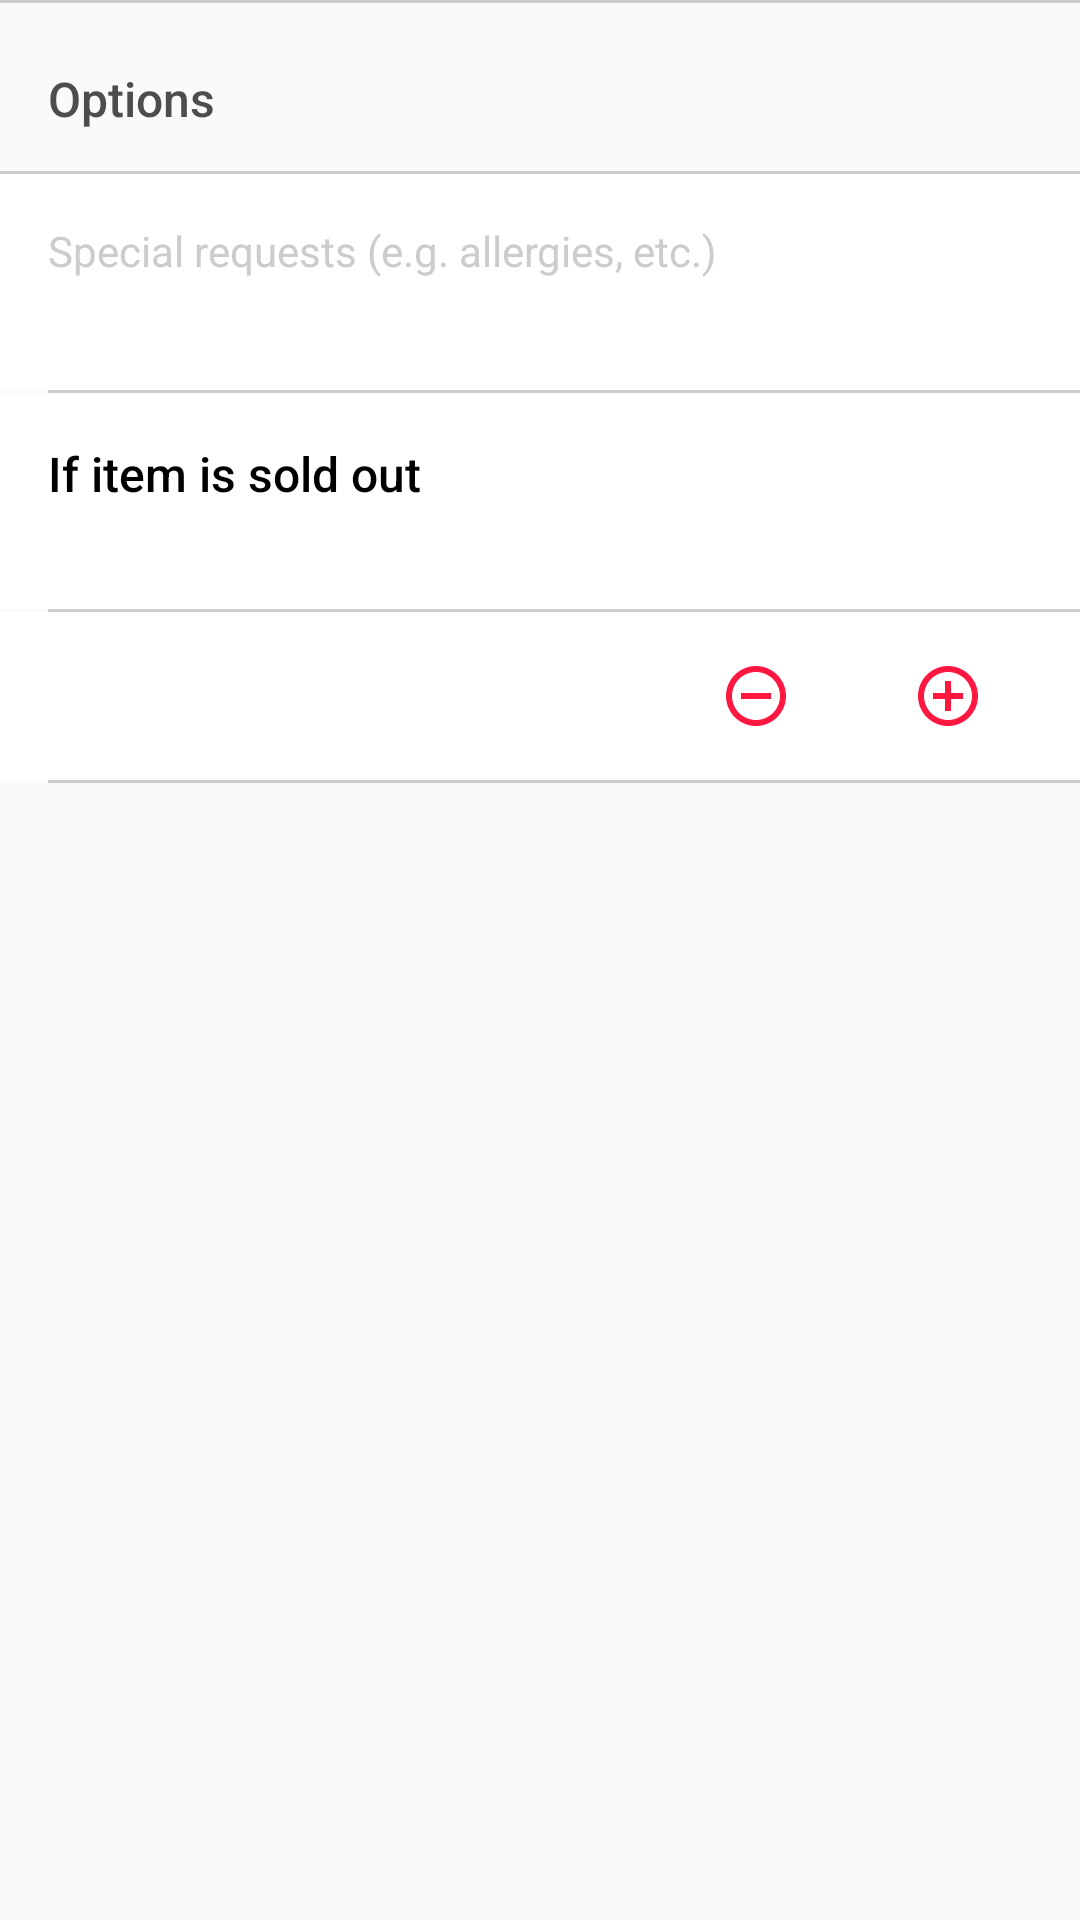

Point at icon controls on the screen. Image size 1080px×1920px, points as point (x, y).
add circle: point (948, 696)
remove circle: point (756, 696)
